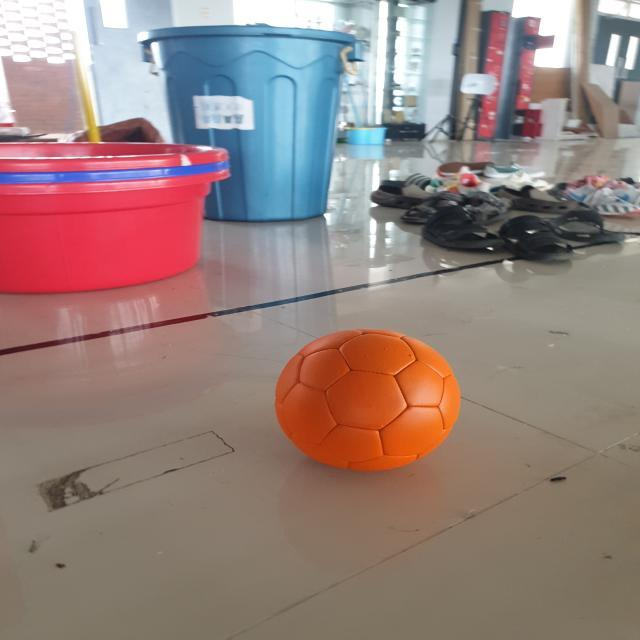bola: (232, 321, 480, 475)
